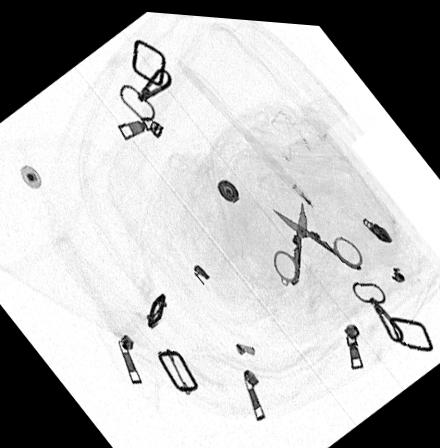Scissors: (269, 194, 367, 274)
